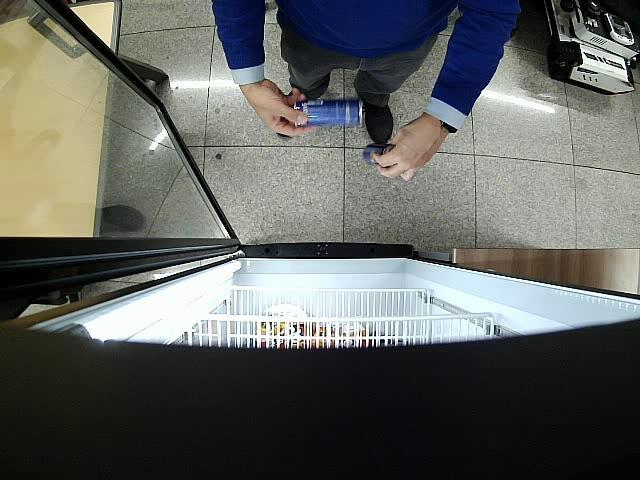16_hot6: (294, 98, 362, 128), (363, 144, 396, 164)
